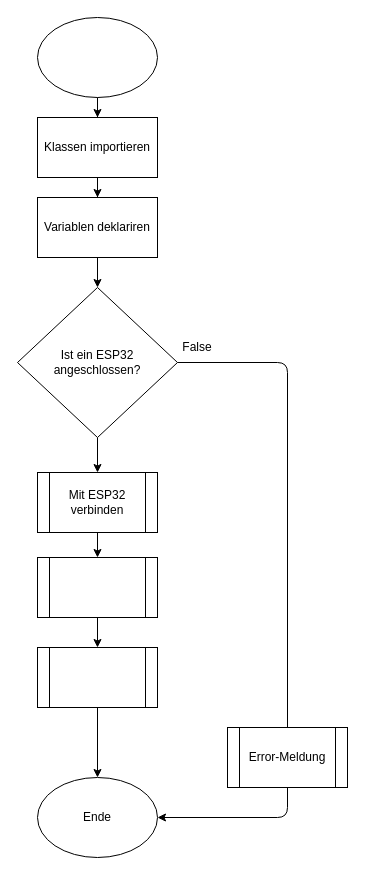
Some shapes in this 365 by 875 pixel diagram are drawn without their labels. The shapes that lost their labels are listed below. From the top down, each one's box as (x1, y1, x2, y2) in pixels, then its label:
(36, 16, 158, 98): WEB-GUI "Satellit hinzufügen"
(36, 556, 158, 618): Dateien übertragen
(36, 646, 158, 708): In Datenbank aufnehmen
